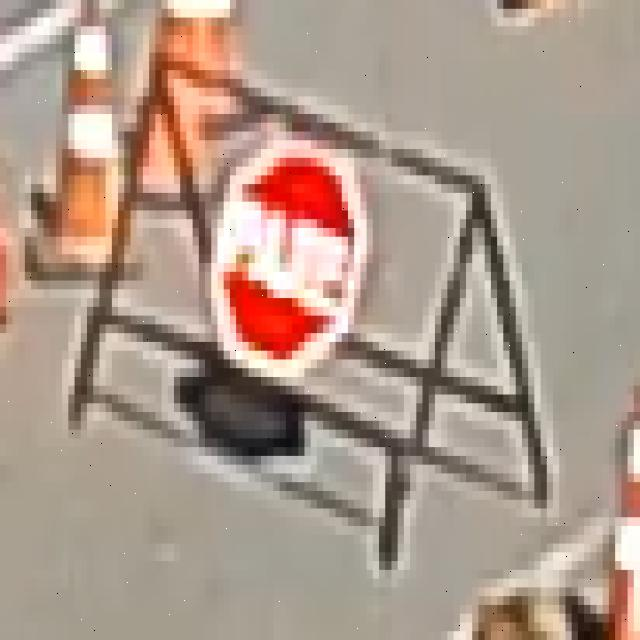small_cone: (56, 26, 118, 263)
stop_sign: (205, 123, 379, 395)
